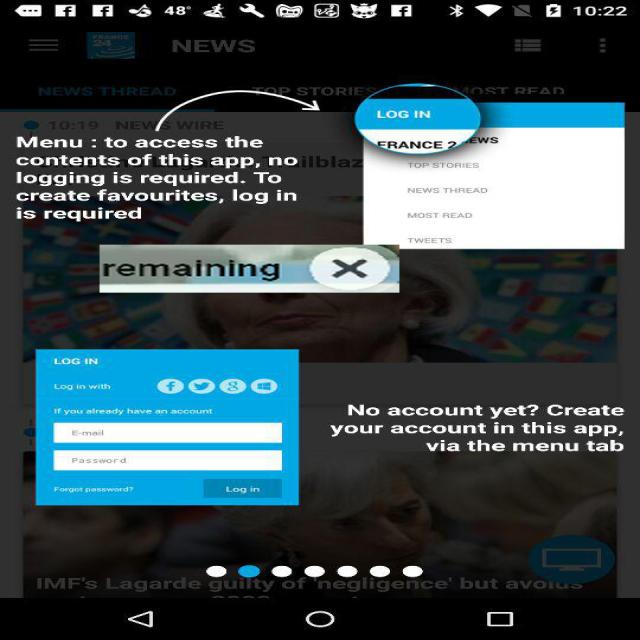misdirection: (100, 245, 400, 292)
